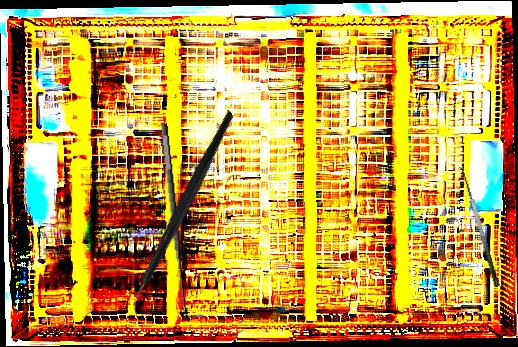Chopper: (75, 109, 293, 321)
Hook Surgical: (157, 121, 204, 321)
Spatula Surgical: (452, 164, 501, 291)
